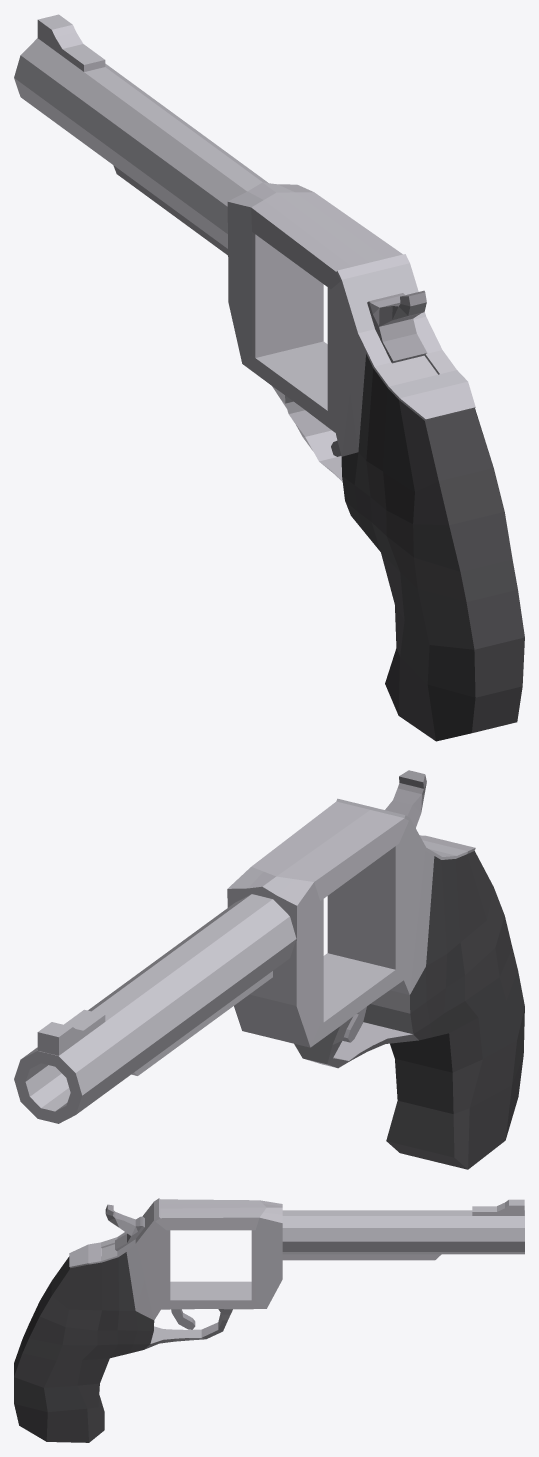
Rendered from revolver_gun.glb.
The picture shows the model from 3 angles, top to bottom: view 1: azimuth 30°, elevation 25°; view 2: azimuth 150°, elevation 25°; view 3: azimuth 270°, elevation 25°; orthographic projection. The views are drawn at different scales.
Parts seen in each view (by area): view 1: Revolver Gun; view 2: Revolver Gun; view 3: Revolver Gun.
Boxes of the visible parts, bbox=[...] form: Revolver Gun: bbox=[14, 14, 524, 741]; Revolver Gun: bbox=[14, 770, 524, 1169]; Revolver Gun: bbox=[14, 1198, 524, 1442].
Bounding box in the file's own units: 1.57 × 6.86 × 13.75.
Materials: 1 (1 with a texture image).
